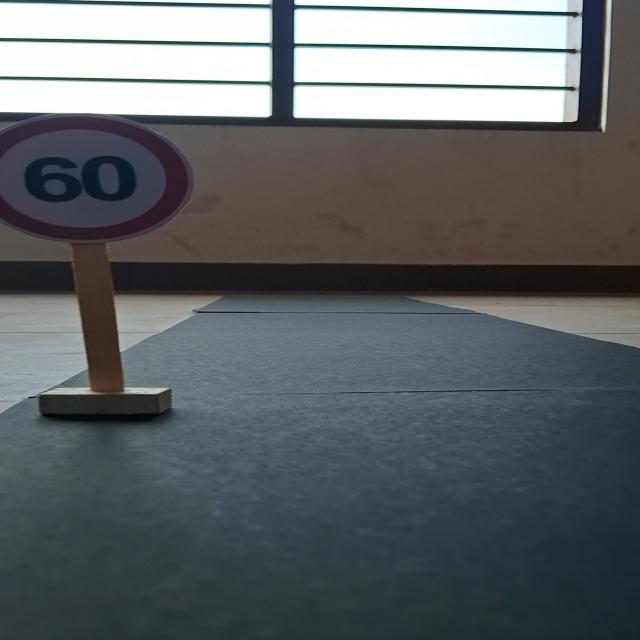Speed60: (0, 118, 199, 240)
